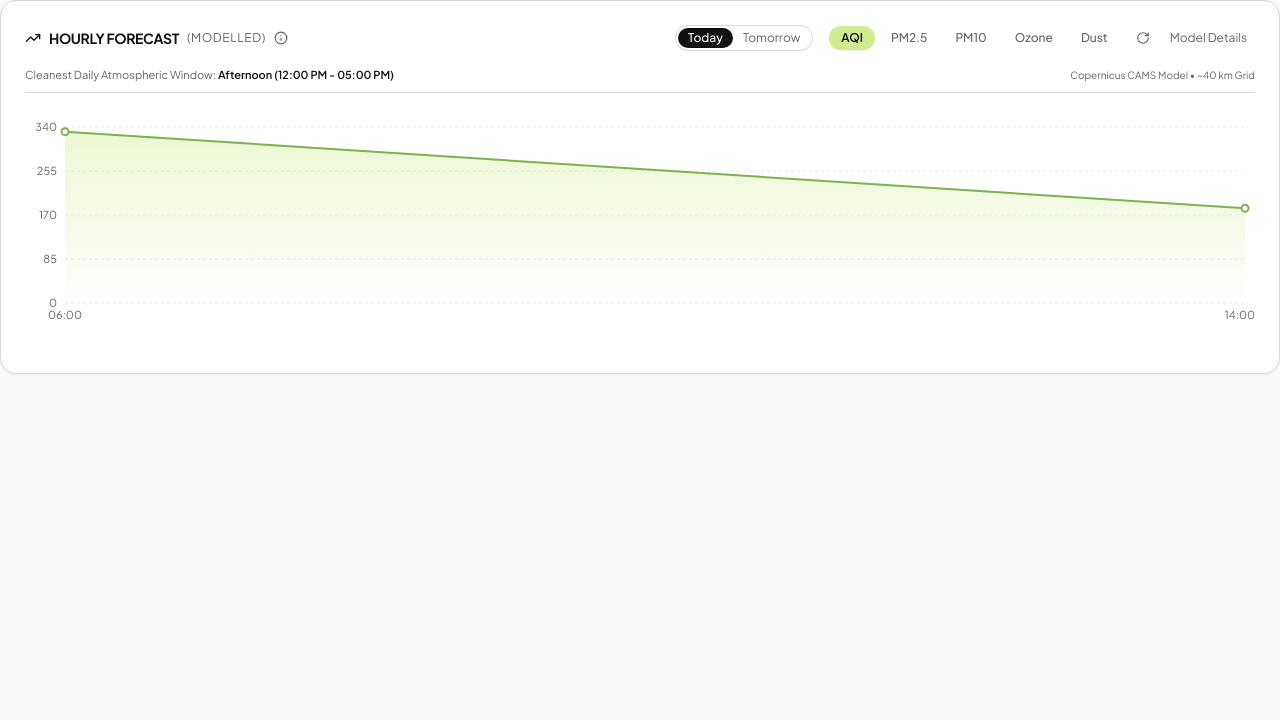
Test case: ForecastPanel Component (Design D - Modeled Atmospheric Projections) › renders populated forecast with explicit model distinctions, diurnal windows, and day toggles
Later steps or results of the test are not shown.
Expected: the text "Copernicus CAMS Model • ~40 km Grid" is shown, x1=1070 y1=68 x2=1255 y2=83
Expected: the text "Cleanest Daily Atmospheric Window:" is shown, x1=25 y1=68 x2=216 y2=81
// Test Model Details drawer toggle
Click the button "Model Details". click: (1208, 38)
box: x1=1162 y1=26 x2=1255 y2=50
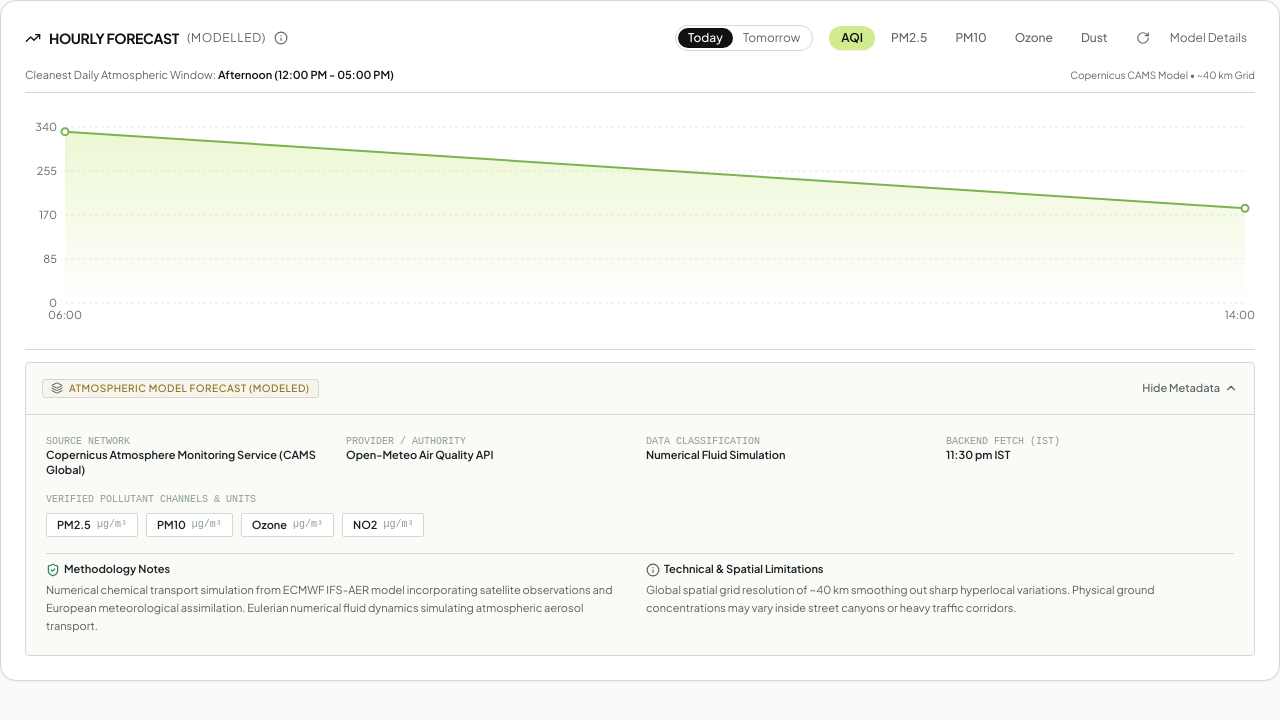
Expected: the text "Eulerian numerical fluid dynamics" is shown, x1=46 y1=583 x2=612 y2=632
Expected: the text "Global spatial grid resolution of ~40 km" is shown, x1=646 y1=583 x2=1155 y2=614
